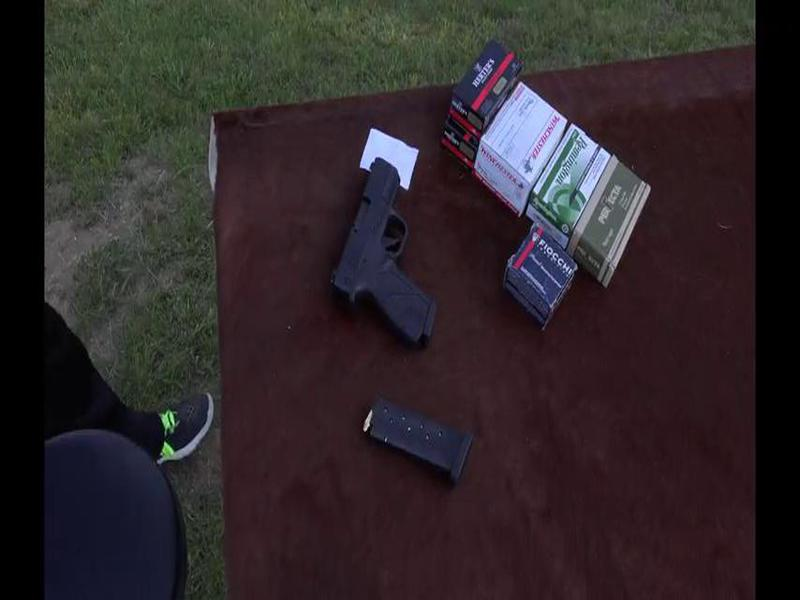Pistola: (291, 150, 447, 355)
